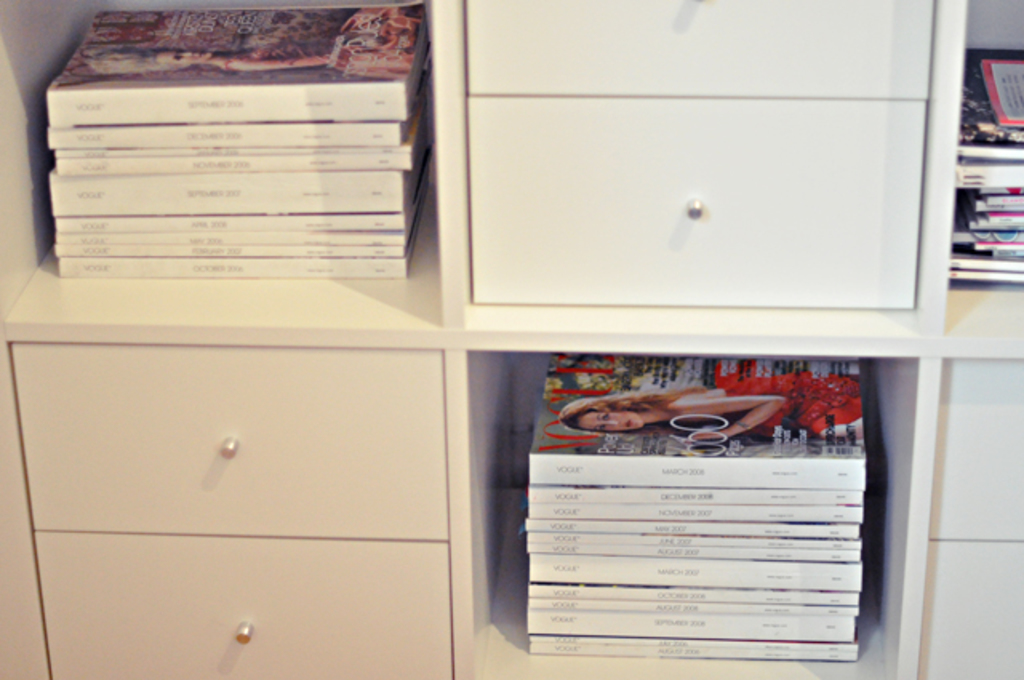cabinet door: (478, 101, 916, 302), (11, 347, 442, 534), (52, 549, 447, 680), (474, 4, 918, 96), (947, 372, 1024, 541), (939, 552, 1024, 675)
handle: (225, 620, 258, 645), (222, 433, 243, 462), (686, 193, 705, 219)
